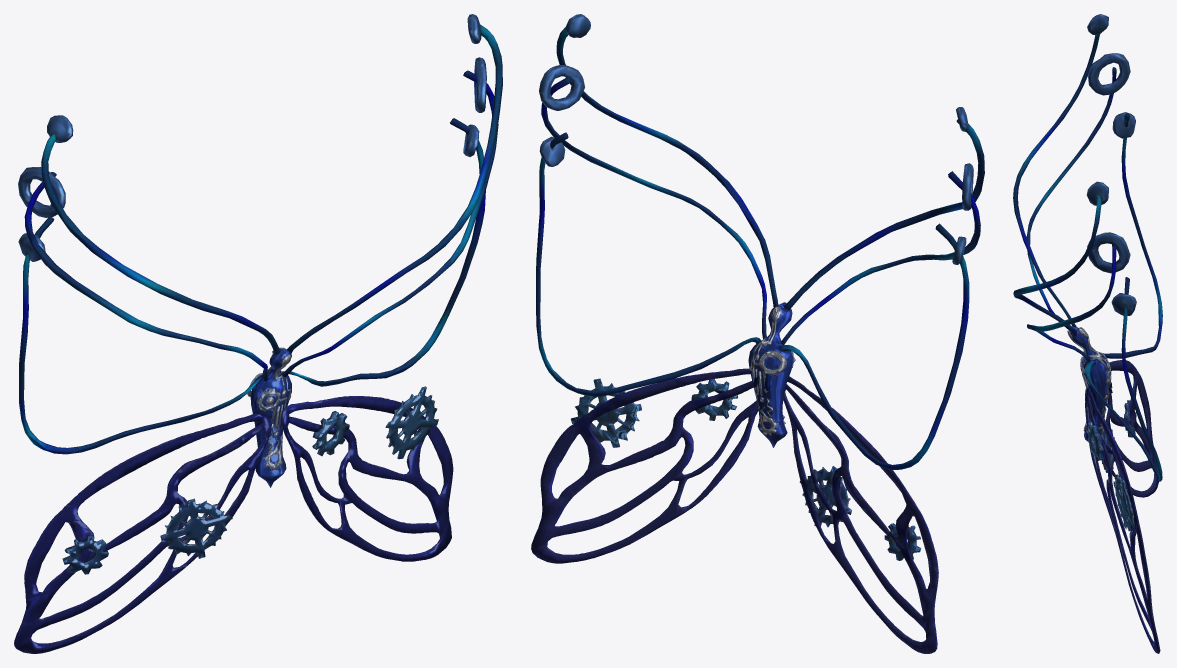
The model's file is insect.glb.
3 views of the same model, side by side, from view 1: azimuth 30°, elevation 25°; view 2: azimuth 150°, elevation 25°; view 3: azimuth 270°, elevation 25° (orthographic). The views are drawn at different scales.
Parts seen in each view (by area): view 1: insect; view 2: insect; view 3: insect.
Part boxes in pixels (bbox=[...]): insect: bbox=[14, 14, 502, 653]; insect: bbox=[531, 14, 984, 653]; insect: bbox=[1013, 14, 1162, 653].
Bounding box in the file's own units: 0.2021 × 0.2312 × 0.0666.
1 material, 1 textured.
